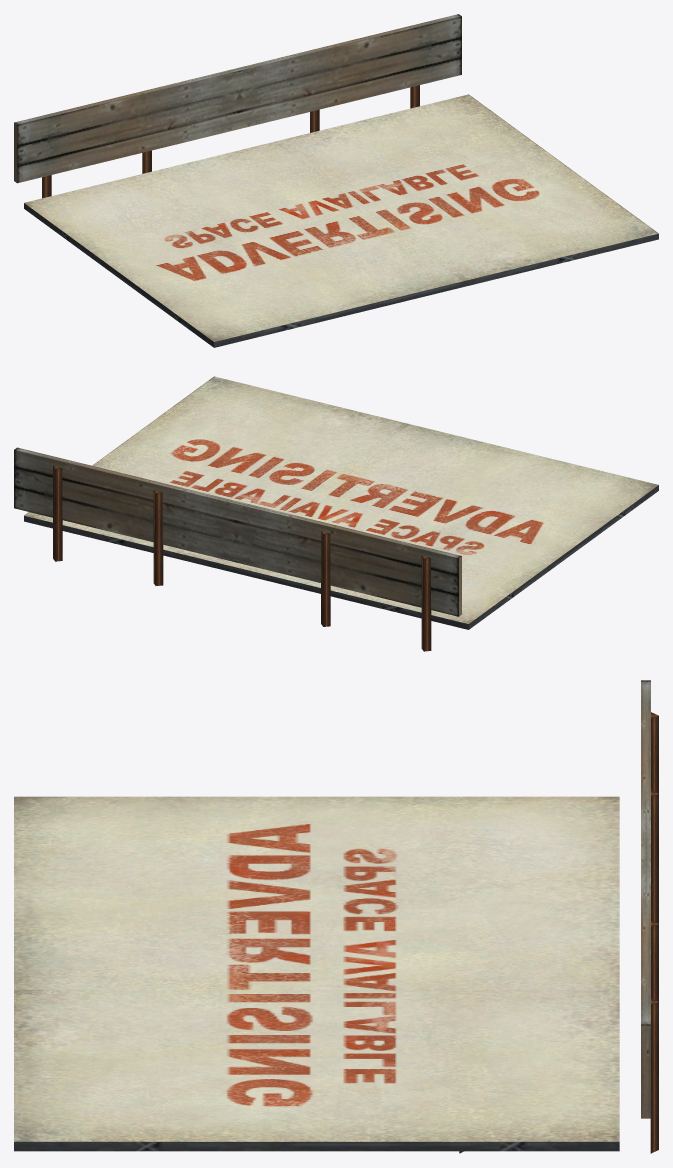
The model's file is billboard_adspace.fbx.
3 renders of one model, top to bottom at view 1: azimuth 30°, elevation 25°; view 2: azimuth 150°, elevation 25°; view 3: azimuth 270°, elevation 25°, orthographic. The views are drawn at different scales.
Parts seen in each view (by area): view 1: mesh_1, mesh_0; view 2: mesh_1, mesh_0; view 3: mesh_1, mesh_0.
Part boxes in pixels (x1,y1,x2,y2): mesh_1: (24, 94, 658, 341); mesh_0: (14, 14, 658, 347); mesh_1: (24, 376, 658, 623); mesh_0: (14, 447, 658, 651); mesh_1: (14, 796, 619, 1141); mesh_0: (14, 680, 658, 1153).
Bounding box in the file's own units: 540 × 115 × 426.
2 materials, 2 textured.
